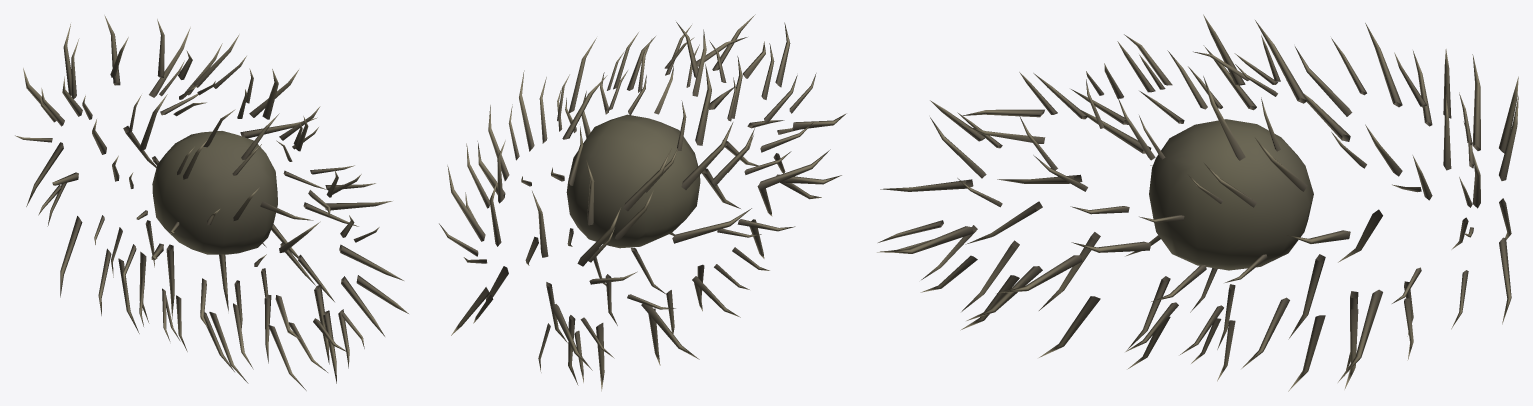
Rendered from microscopic-protists-spiky-protist_v1.glb.
3 views of the same model, side by side, from view 1: azimuth 30°, elevation 25°; view 2: azimuth 150°, elevation 25°; view 3: azimuth 270°, elevation 25° (orthographic). The views are drawn at different scales.
Visible parts, largest first — view 1: Spiky Protist; view 2: Spiky Protist; view 3: Spiky Protist.
Boxes of the visible parts, bbox=[...] form: Spiky Protist: bbox=[15, 15, 408, 390]; Spiky Protist: bbox=[439, 14, 846, 391]; Spiky Protist: bbox=[877, 14, 1518, 391].
Size of the model in its own units: 0.2853 by 0.2941 by 0.5.
